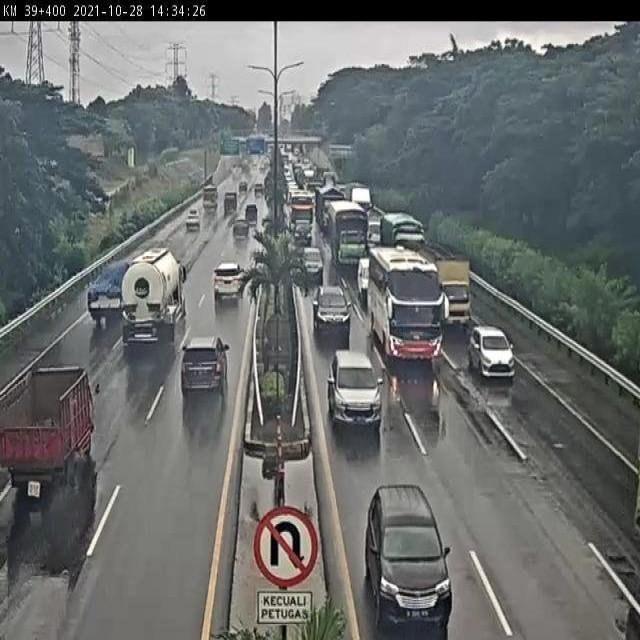big bus: (366, 248, 444, 364)
big truck: (120, 245, 188, 347), (432, 255, 476, 329), (86, 259, 132, 324), (327, 199, 369, 269), (378, 208, 425, 248)
car: (370, 485, 457, 635), (328, 349, 383, 431), (182, 338, 231, 398), (469, 327, 519, 384), (312, 282, 352, 338), (213, 259, 247, 301), (300, 245, 326, 280), (357, 256, 374, 293), (230, 212, 251, 239), (185, 211, 202, 236)
small truck: (0, 366, 97, 486)
